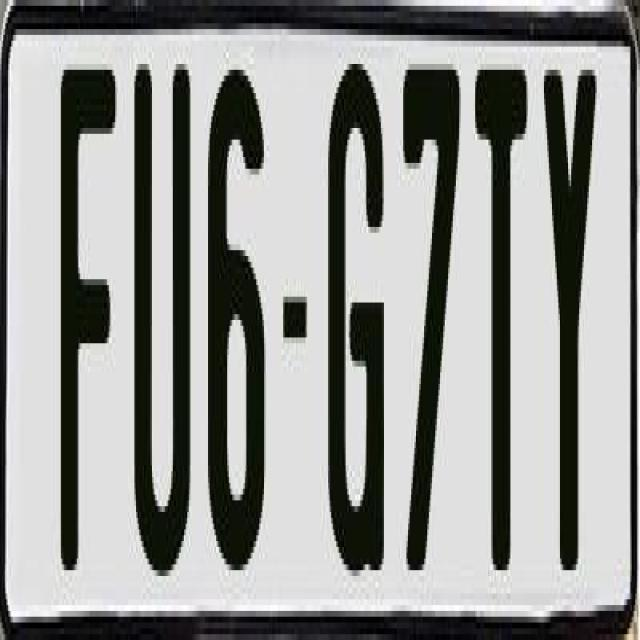6: (206, 52, 268, 582)
7: (398, 58, 454, 559)
F: (56, 64, 115, 576)
G: (325, 64, 389, 576)
T: (474, 58, 530, 570)
U: (132, 58, 190, 570)
Y: (542, 58, 596, 594)
